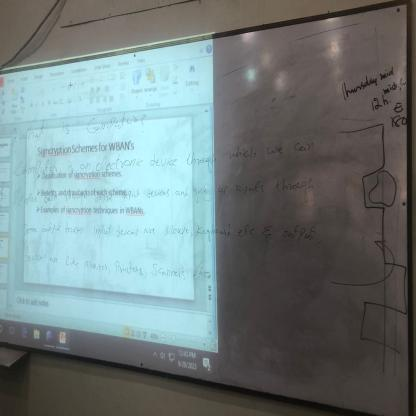Handwritten text: (9, 130, 317, 181), (18, 214, 322, 249), (12, 175, 319, 209), (14, 245, 189, 286), (16, 106, 142, 144)
Whiteboard: (0, 2, 414, 416)
